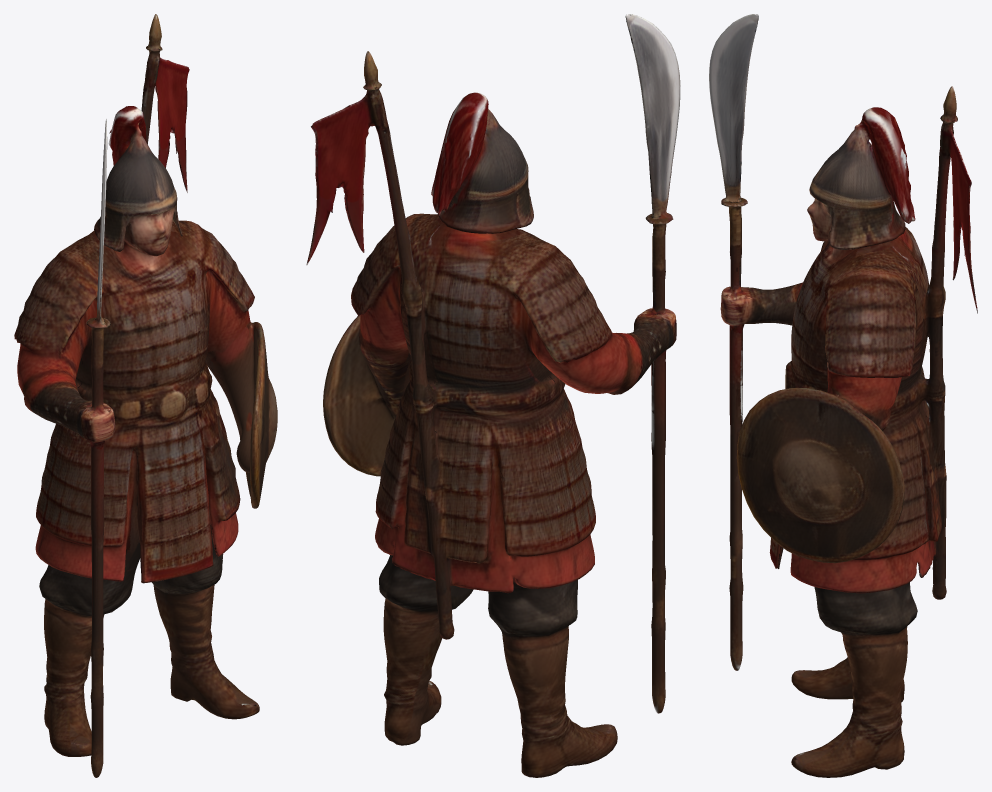
Rendered from vanguard-rodin.glb.
The picture shows the model from 3 angles, left to right: view 1: azimuth 30°, elevation 25°; view 2: azimuth 150°, elevation 25°; view 3: azimuth 270°, elevation 25°; orthographic projection. The views are drawn at different scales.
Visible parts, largest first — view 1: model; view 2: model; view 3: model.
Boxes of the visible parts, left/top/right/bottom form: model: left=14, top=14, right=277, bottom=777; model: left=306, top=14, right=680, bottom=777; model: left=709, top=14, right=977, bottom=777.
Bounding box in the file's own units: 0.7707 × 1.89 × 0.6821.
Materials: 1 (1 with a texture image).
